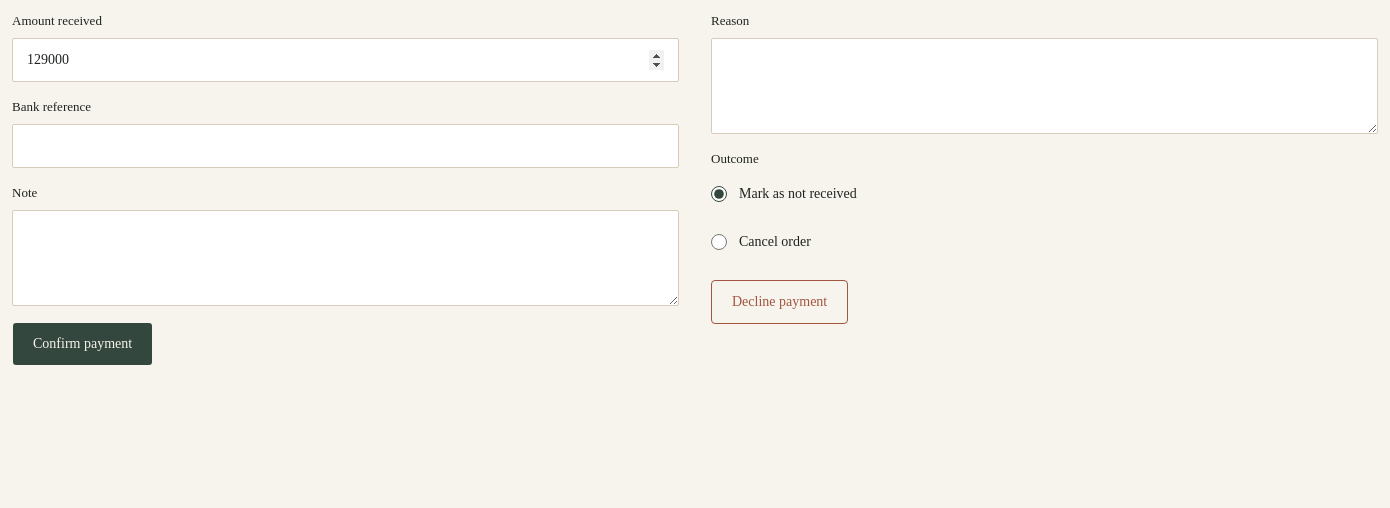
Test: does not let a tick ticked before an unrelated failure survive into a later, different mismatch
In the field labelled "Bank reference": coordinates (346, 146) [12,124,679,168], type "VCB-1"
Replace the text in the number field labelled "Amount received" with "100000": coordinates (346, 60) [12,38,679,82]
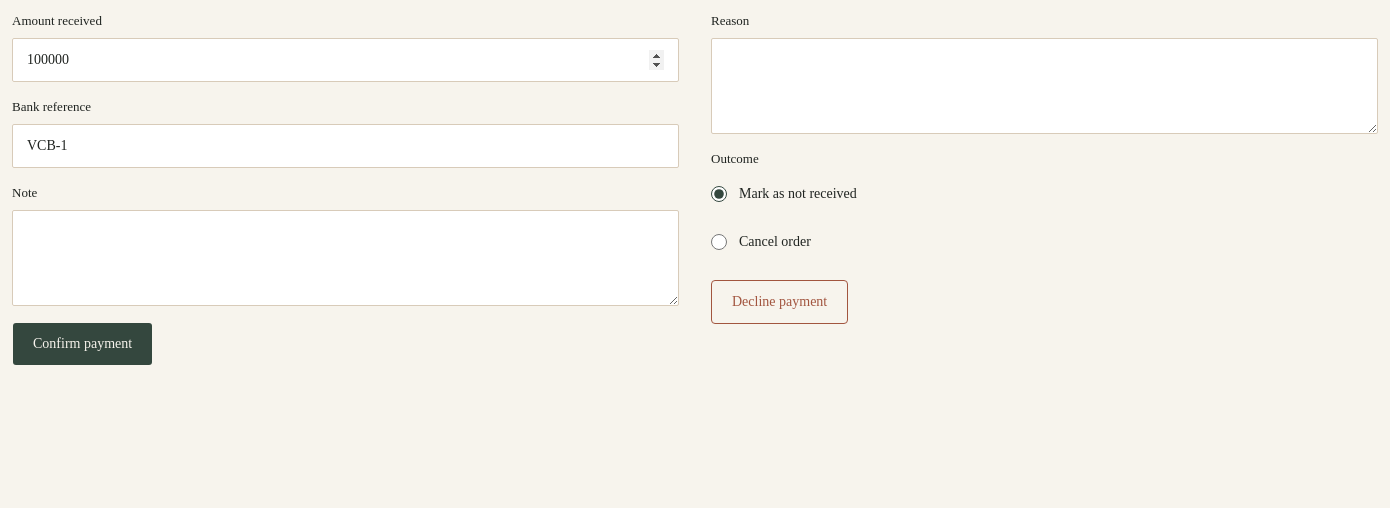
Click the button "Confirm payment": coordinates (83, 344) [12,322,153,366]
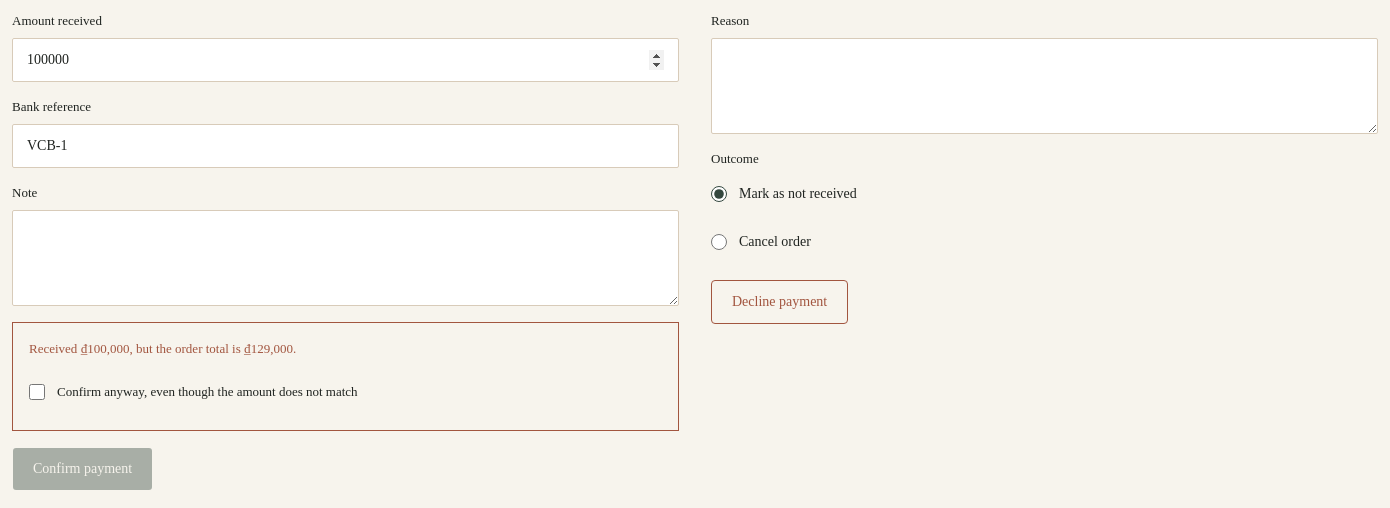
Result: the message is shown at [12,322,679,431]
Click the checkbox: coordinates (37, 392) [29,384,45,400]
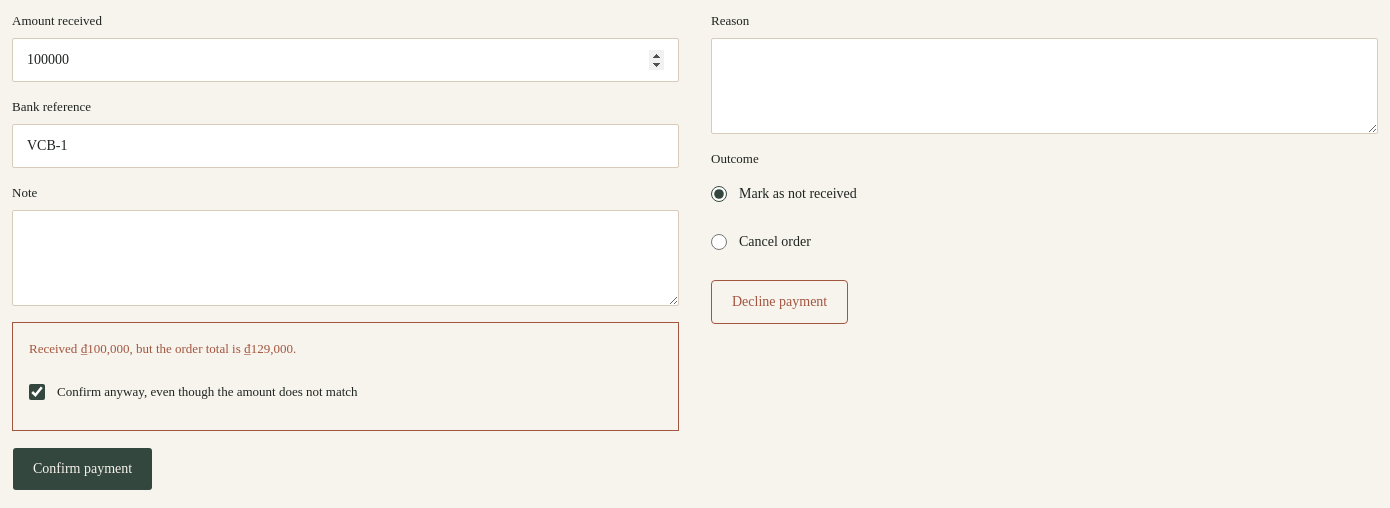
Result: the button "Confirm payment" is enabled
Click the button "Confirm payment": coordinates (83, 469) [12,447,153,491]
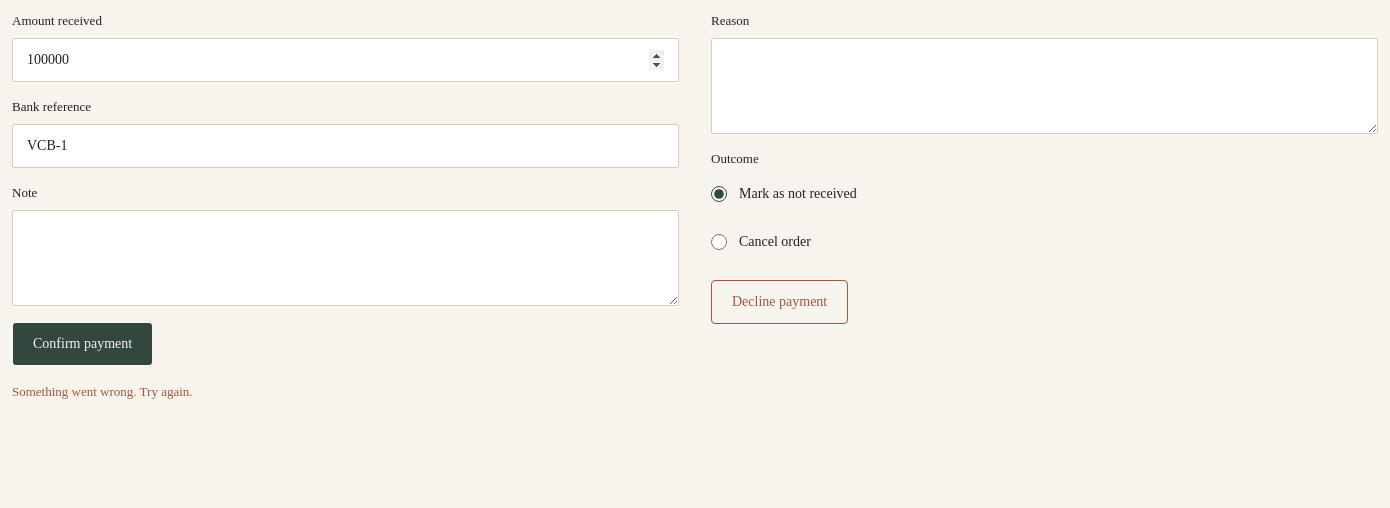
Result: the text "Something went wrong. Try again." is shown at [12,384,193,399]
Replace the text in the number field labelled "Amount received" with "75000": coordinates (346, 60) [12,38,679,82]
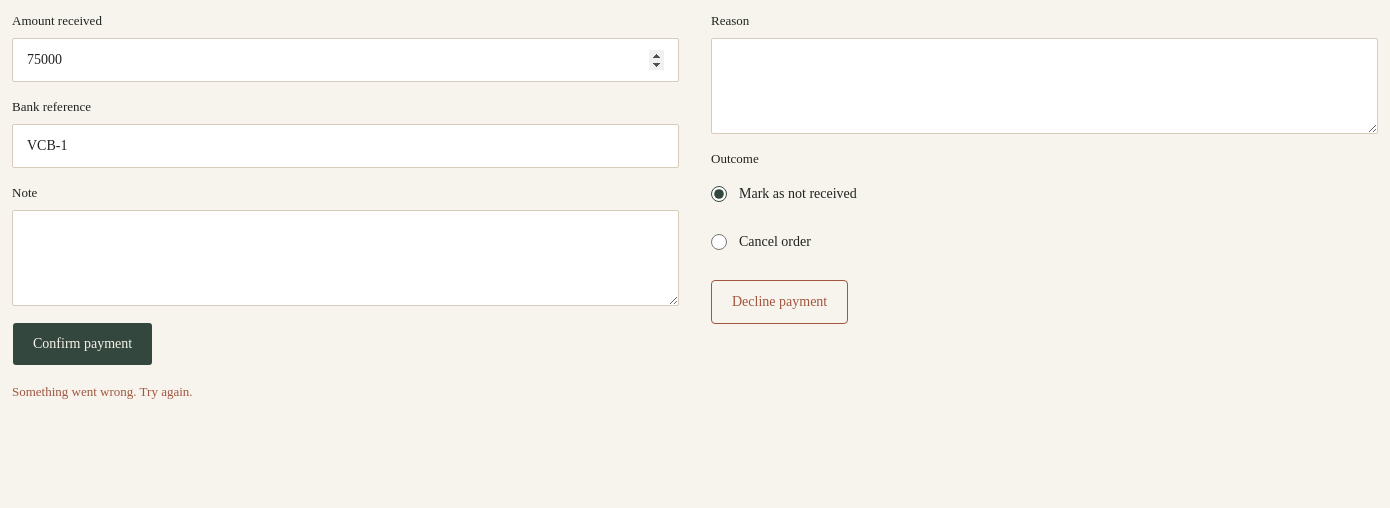
Click the button "Confirm payment": coordinates (83, 344) [12,322,153,366]
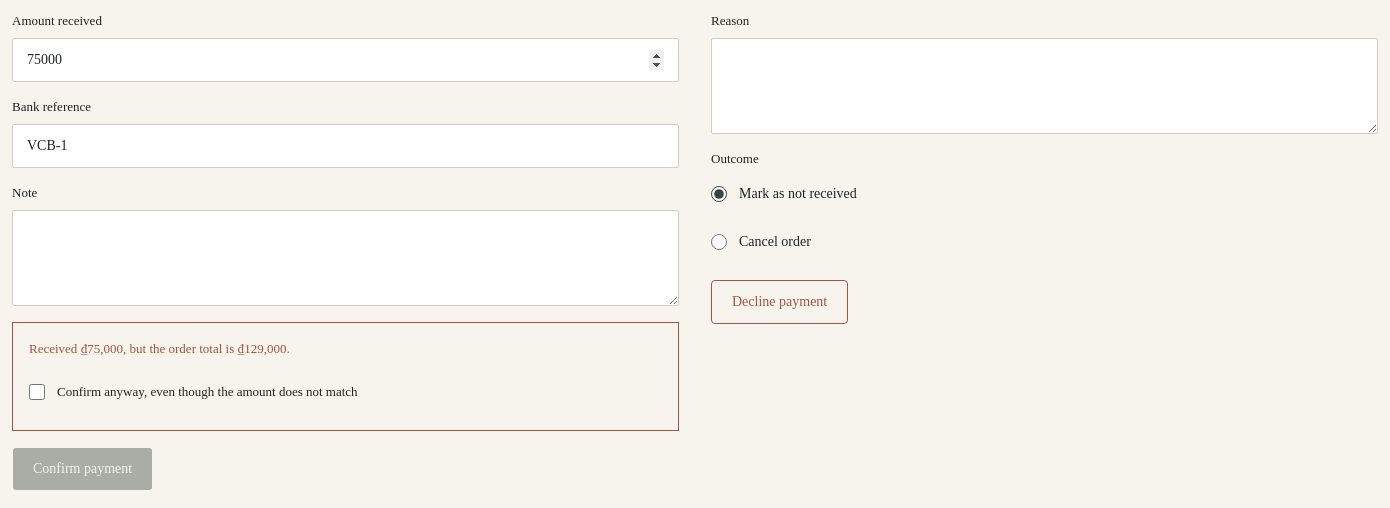
Result: the checkbox is not checked at [29,384,45,400]
Result: the button "Confirm payment" is disabled at [12,447,153,491]
